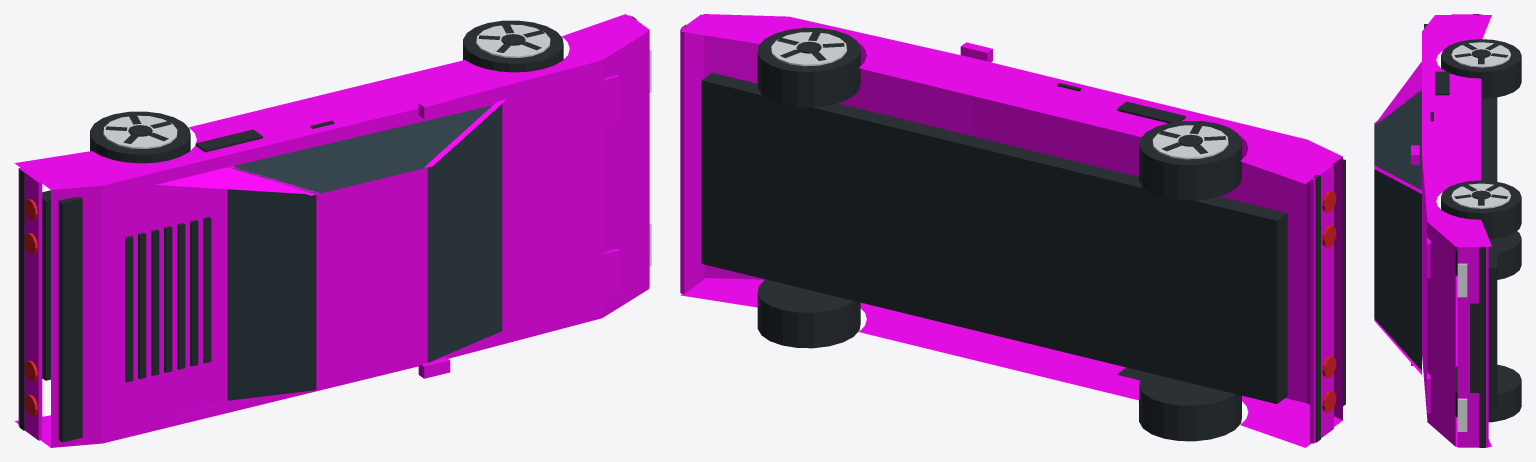
Rendered from sports-berlinetta.glb.
3 views of the same model, side by side, from view 1: azimuth 30°, elevation 25°; view 2: azimuth 150°, elevation 25°; view 3: azimuth 270°, elevation 25° (orthographic). The views are drawn at different scales.
Parts seen in each view (by area): view 1: sports-berlinetta; view 2: sports-berlinetta; view 3: sports-berlinetta.
Part boxes in pixels (box(x1,y1,x2,y2)): sports-berlinetta: box(14, 14, 651, 447); sports-berlinetta: box(680, 14, 1345, 447); sports-berlinetta: box(1374, 14, 1521, 447).
Size of the model in its own units: 4.23 by 1.8 by 1.12.
